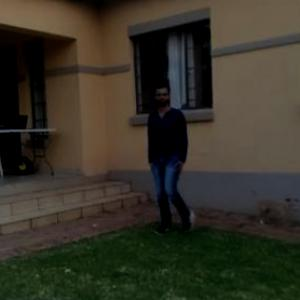follow: (148, 85, 197, 233)
